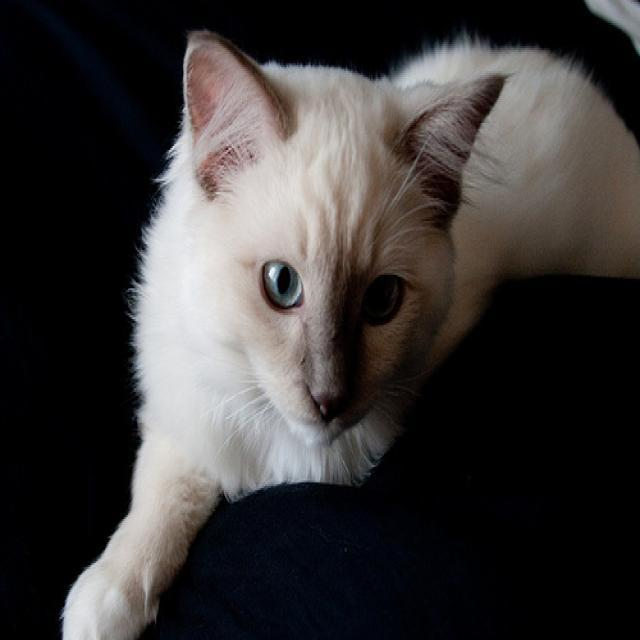Ragdoll: (178, 20, 511, 455)
